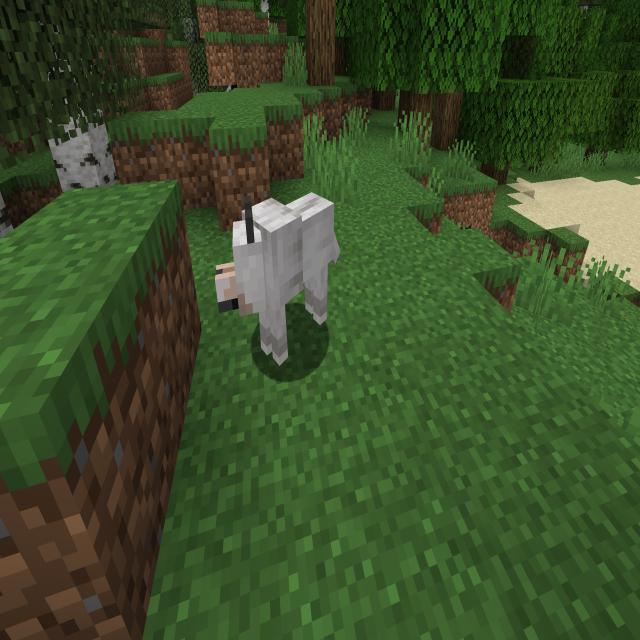Wolf: (202, 186, 356, 376)
